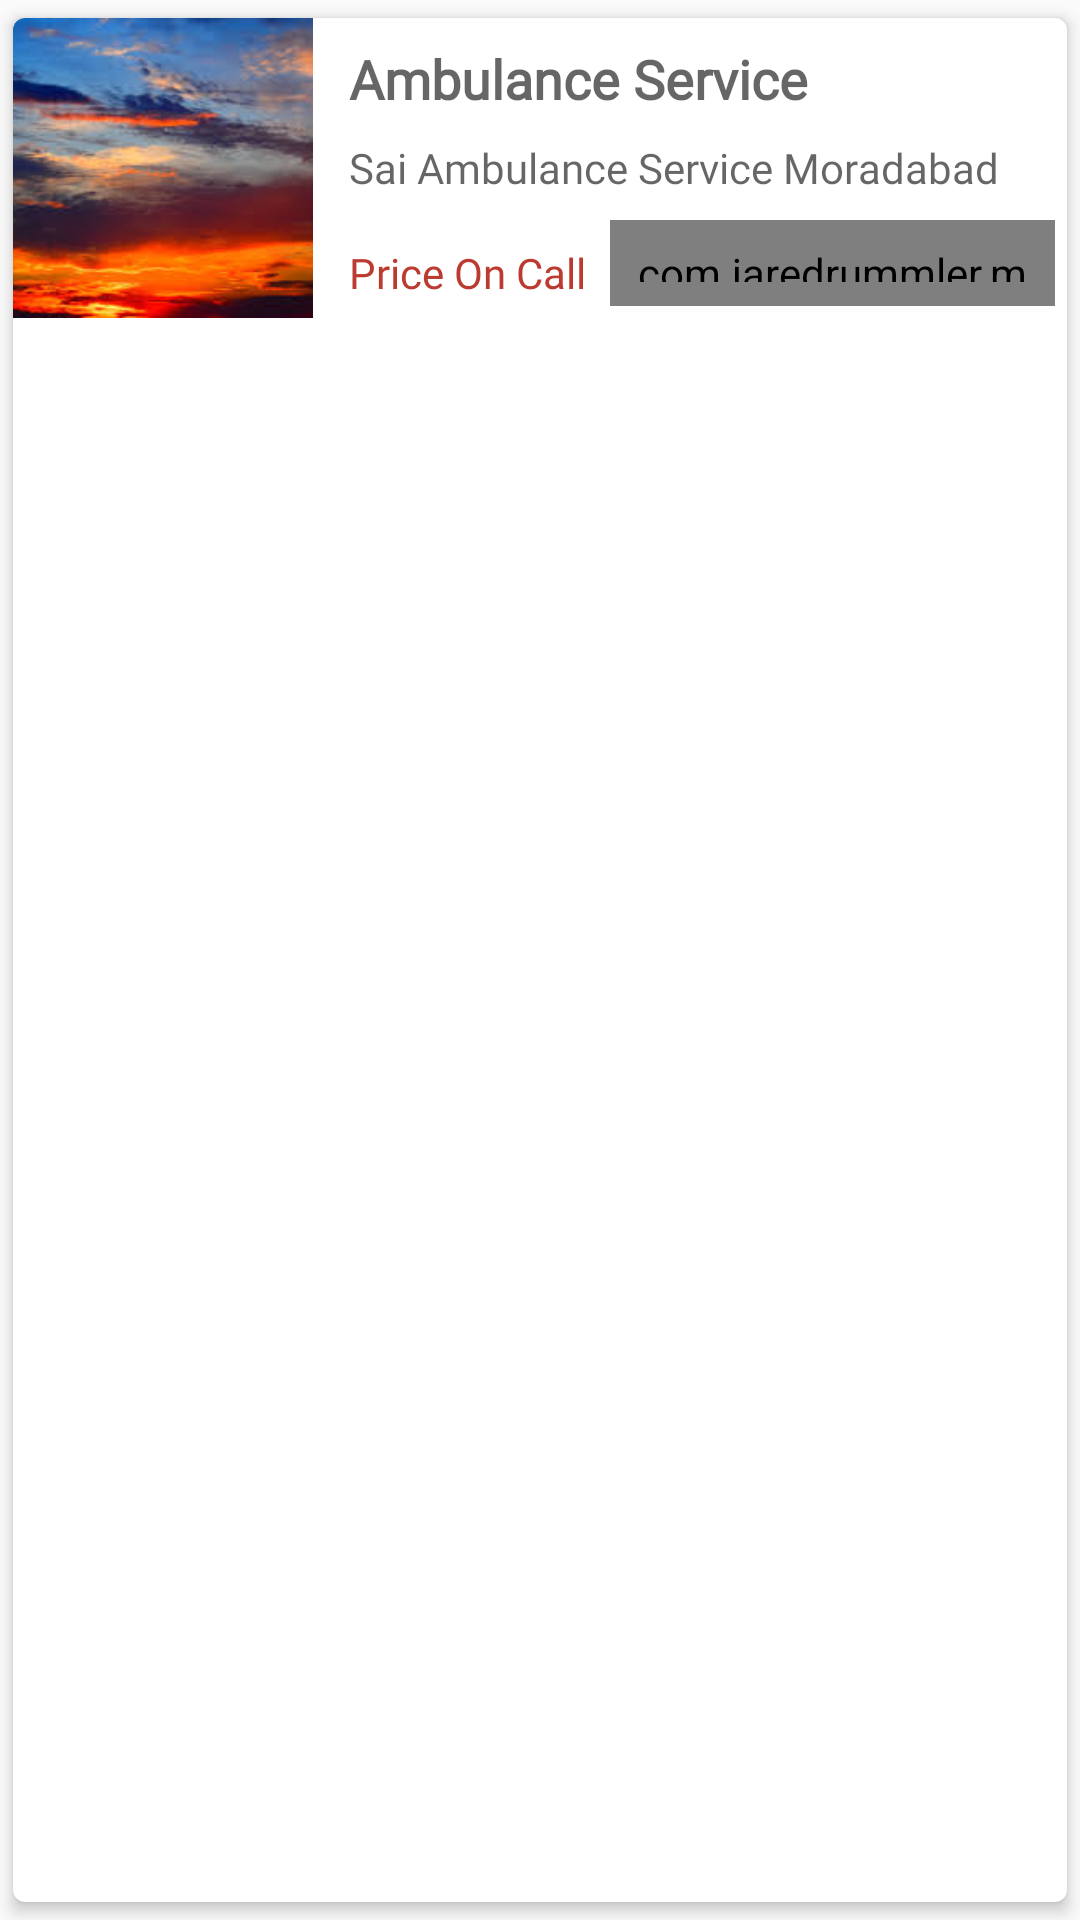

Screen size 1080w x 1920h. Icon name, then its center in pixels as (x,y):
sky: (163,168)
